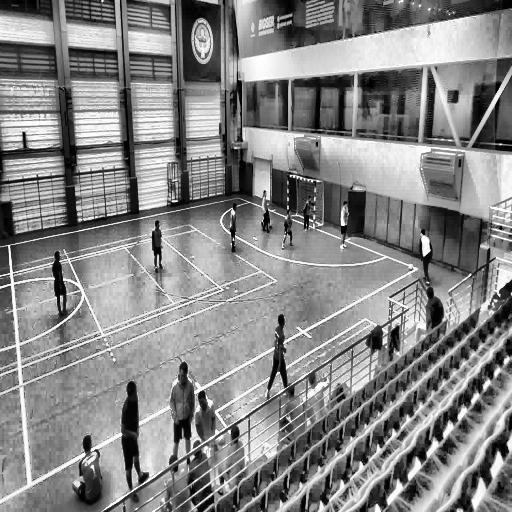ball: (407, 262, 415, 271)
player: (120, 380, 146, 504), (170, 362, 195, 463), (266, 314, 290, 401), (194, 388, 216, 458), (52, 250, 68, 317), (419, 228, 432, 290), (151, 219, 164, 273), (302, 194, 314, 234), (282, 209, 294, 248), (229, 202, 238, 254), (339, 199, 348, 250), (261, 190, 271, 234)
